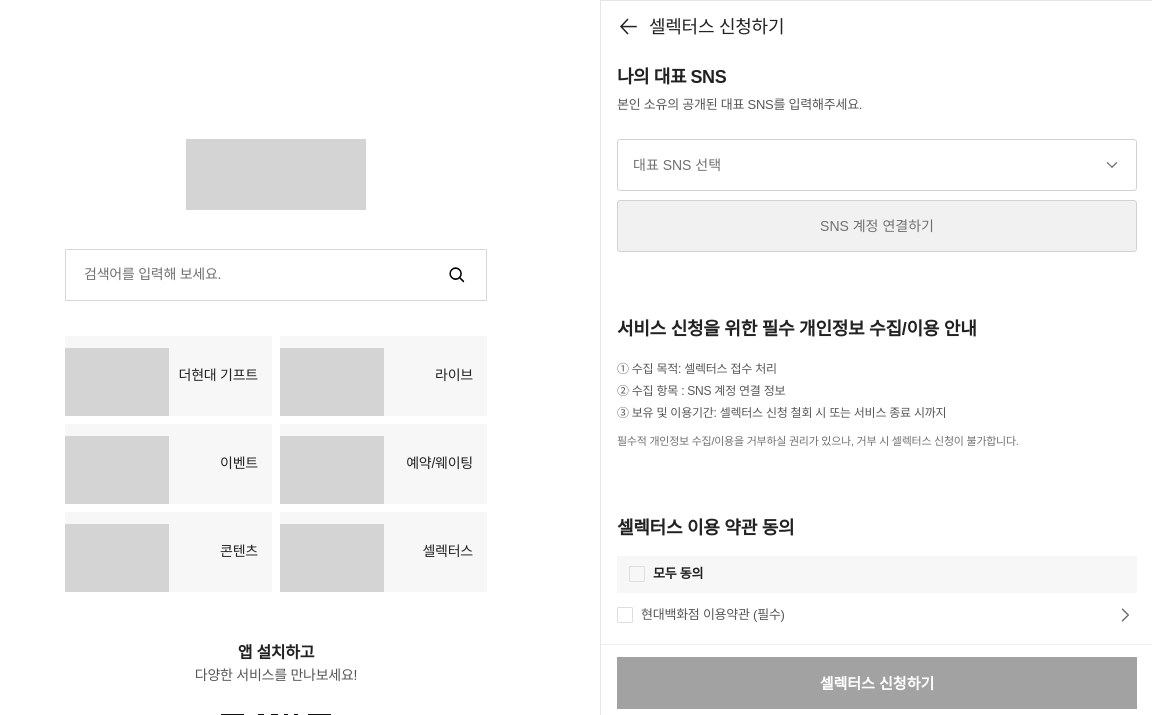
Test: reference shell contract › opens one SNS listbox from the combobox
Click the dropdown labelled "대표 SNS" at (677, 165), box [617,139,1137,191]
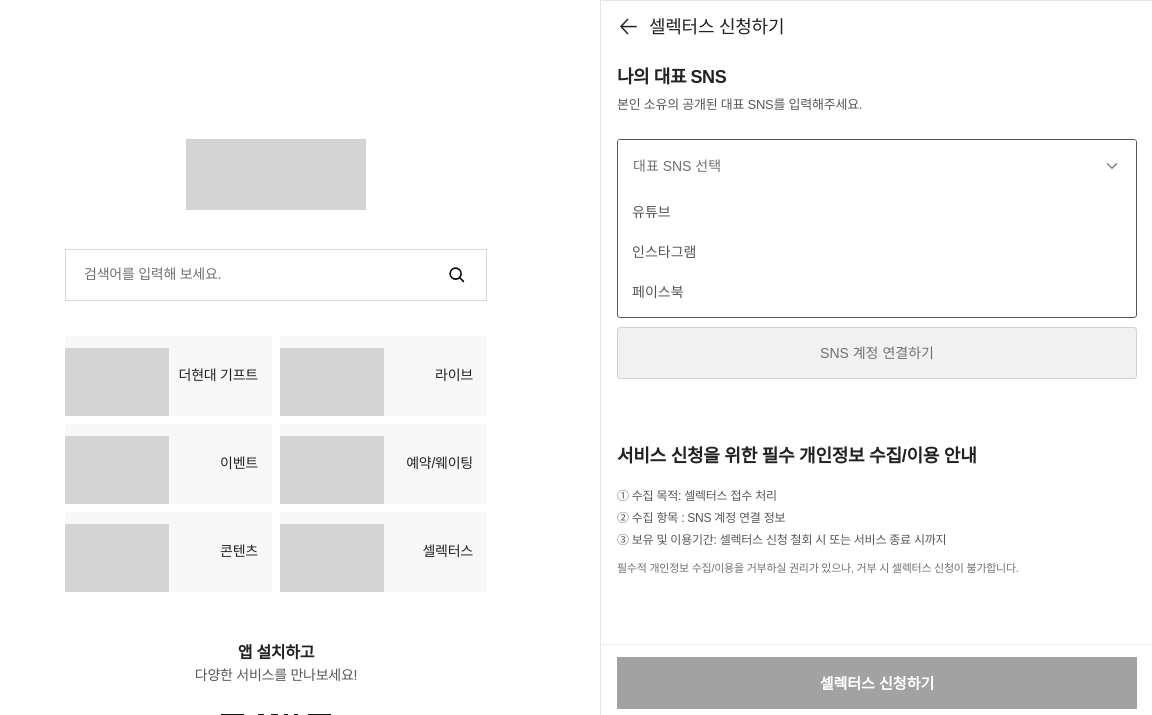
Check: the dropdown labelled "대표 SNS" is expanded, box [618,140,1136,192]
Check: the list named "대표 SNS 선택 목록" is shown, box [618,192,1136,317]
